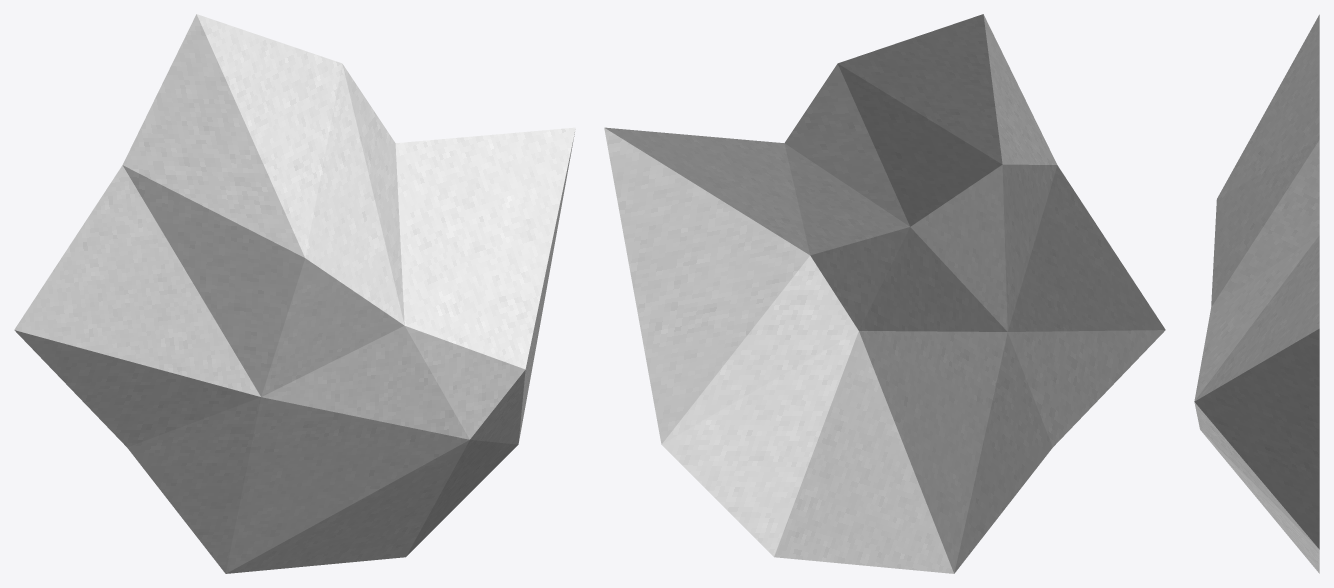
The model's file is snowbank.glb.
3 renders of one model, left to right at view 1: azimuth 30°, elevation 25°; view 2: azimuth 150°, elevation 25°; view 3: azimuth 270°, elevation 25°, orthographic. The views are drawn at different scales.
Visible parts, largest first — view 1: Plane; view 2: Plane; view 3: Plane.
Boxes of the visible parts, bbox=[...] form: Plane: bbox=[14, 14, 575, 573]; Plane: bbox=[604, 14, 1165, 573]; Plane: bbox=[1194, 14, 1319, 573].
Bounding box in the file's own units: 6.8 × 6.87 × 1.63.
1 material, 1 textured.
